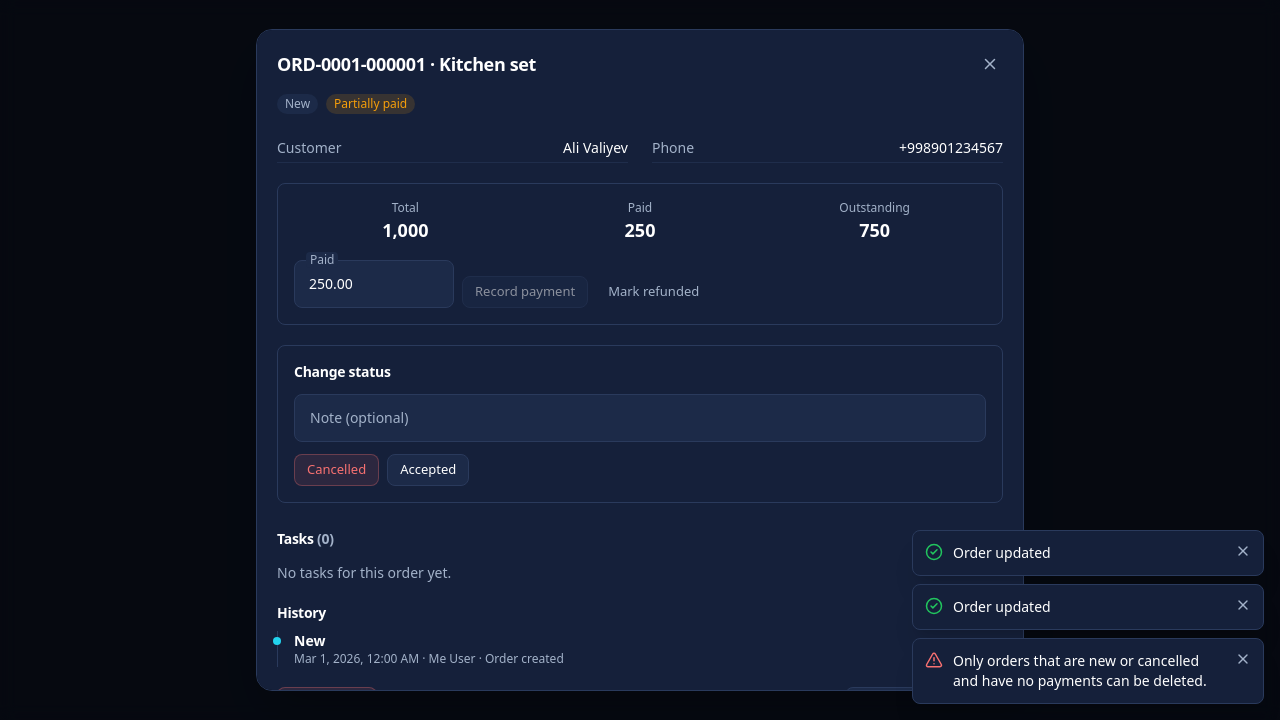
Scenario: OrderModal › Escape closes only the topmost dialog
Later steps or results of the test are not shown.
Click the button "Cancelled".
click(337, 470)  # box left=294, top=454, right=379, bottom=486
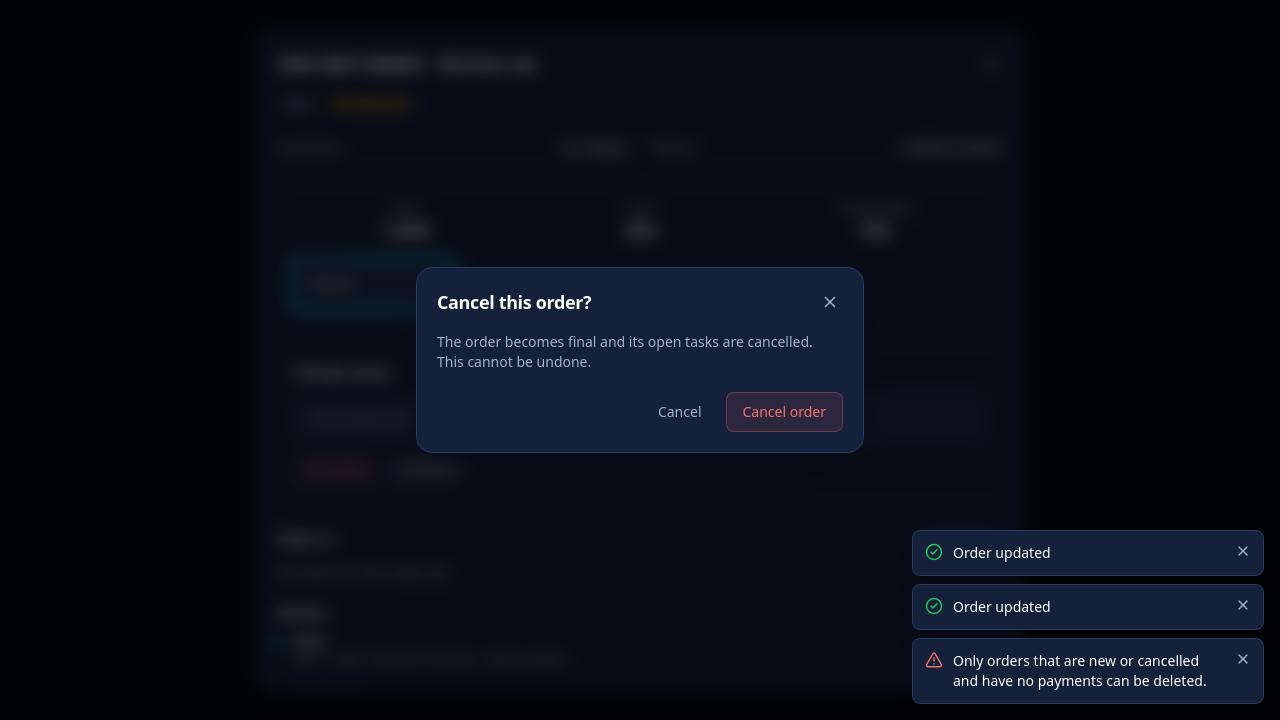
Result: the dialog "Cancel this order?" is shown at left=416, top=267, right=864, bottom=453
Press Escape
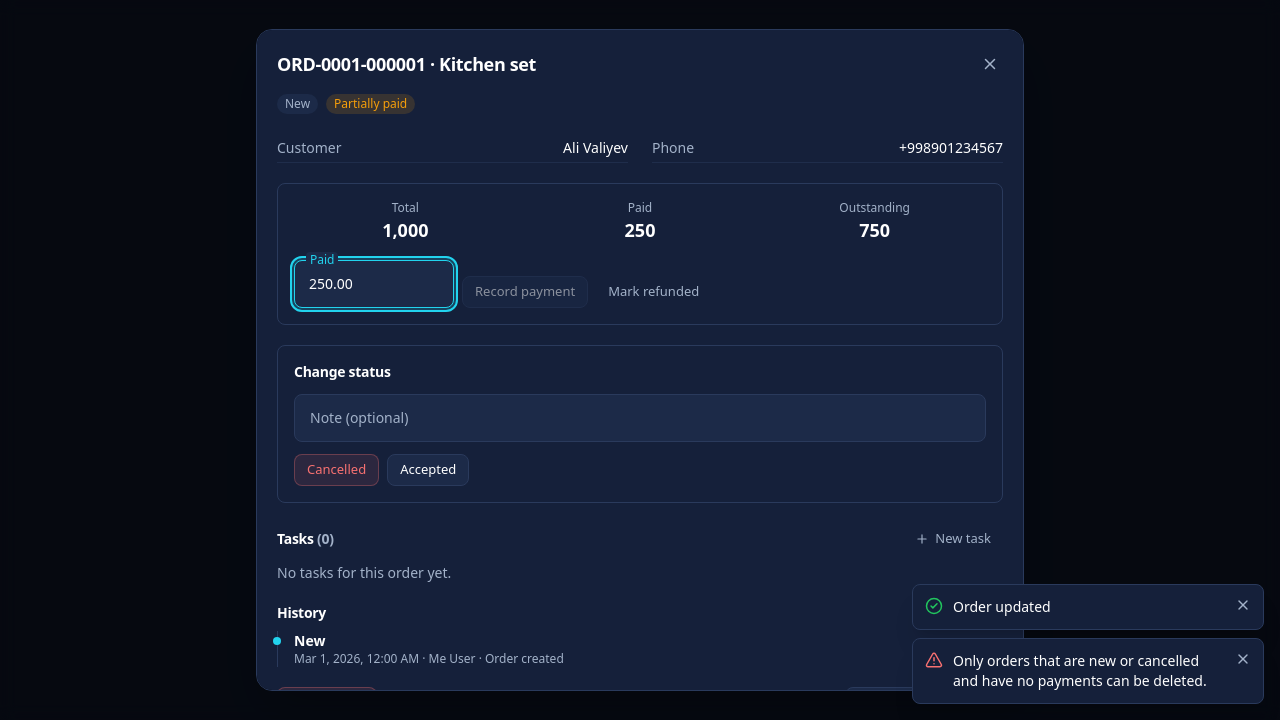
Expected: the dialog "ORD-0001" is shown, left=256, top=29, right=1024, bottom=691
Result: the heading "Cancel this order?" is gone
